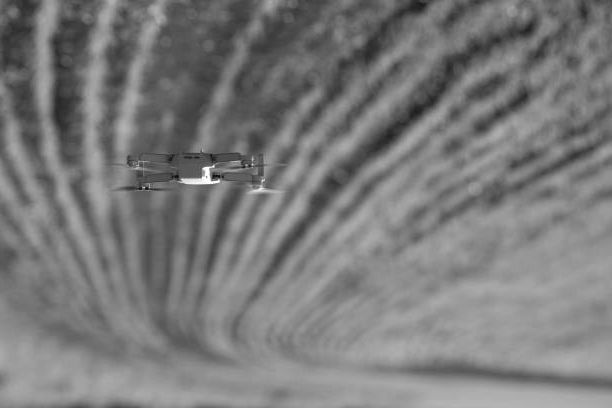Drone: (105, 145, 288, 201)
